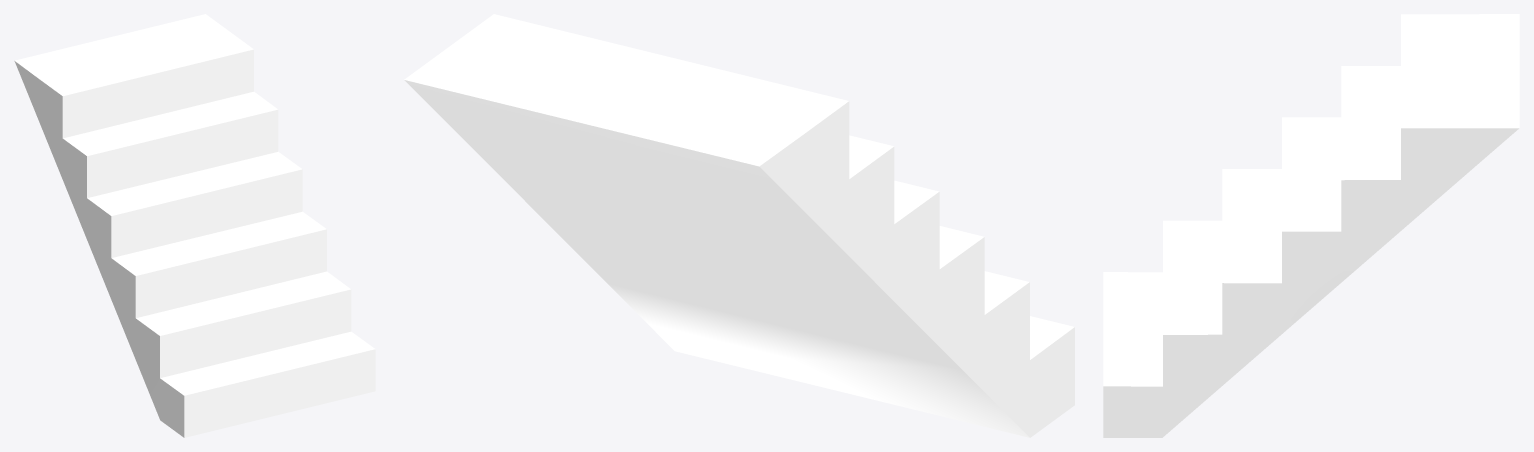
The model's file is BaseStairs.009.glb.
The picture shows the model from 3 angles, left to right: view 1: azimuth 30°, elevation 25°; view 2: azimuth 150°, elevation 25°; view 3: azimuth 270°, elevation 25°; orthographic projection. The views are drawn at different scales.
Parts seen in each view (by area): view 1: BaseStairs.009; view 2: BaseStairs.009; view 3: BaseStairs.009.
Boxes of the visible parts, x1=… form: BaseStairs.009: x1=14, y1=14, x2=375, y2=437; BaseStairs.009: x1=404, y1=14, x2=1074, y2=437; BaseStairs.009: x1=1103, y1=14, x2=1519, y2=437.
Size of what is drawn, in the model's own units: 1.36 by 1.71 by 2.09.
1 material, 1 textured.
